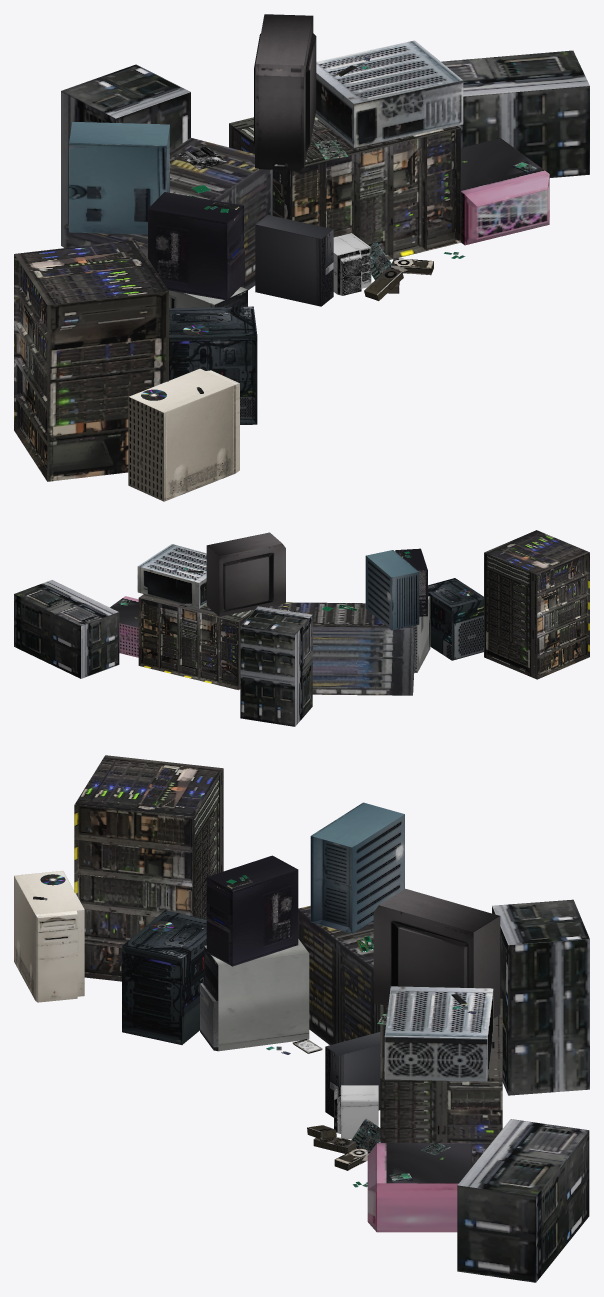
Rendered from pcs.fbx.
3 views of the same model, one above another, from view 1: azimuth 30°, elevation 25°; view 2: azimuth 150°, elevation 25°; view 3: azimuth 270°, elevation 25° (orthographic). The views are drawn at different scales.
Parts seen in each view (by area): view 1: Cube.034, Cube.032, Cube.031, Cube.011, Cube.028, Cube.027, Cube.001, Cube.024, Cube.026, Cube.035, Cube.030, Cube.029 (+5 smaller); view 2: Cube.034, Cube.030, Cube.035, Cube.031, Cube.032, Cube.001, Cube.029, Cube.027, Cube.028, Cube.026, Cube.010, Cube.024; view 3: Cube.034, Cube.031, Cube.035, Cube.001, Cube.027, Cube.028, Cube.010, Cube.029, Cube.032, Cube.024, Cube.026, Cube.011 (+3 smaller).
Part boxes in pixels (x1,y1,x2,y2): Cube.034: (14,240,168,481); Cube.032: (229,116,460,259); Cube.031: (441,50,589,177); Cube.011: (128,368,239,501); Cube.028: (315,40,463,147); Cube.027: (69,122,169,234); Cube.001: (254,14,316,170); Cube.024: (148,192,244,300); Cube.026: (461,138,549,245); Cube.035: (61,64,190,246); Cube.030: (63,138,272,290); Cube.029: (169,306,257,424); Cube.034: (484,530,589,679); Cube.030: (268,602,414,695); Cube.035: (240,606,312,726); Cube.031: (14,580,119,678); Cube.032: (138,594,268,690); Cube.001: (206,532,285,616); Cube.029: (428,578,483,660); Cube.027: (365,550,419,630); Cube.028: (137,544,206,608); Cube.026: (110,596,138,657); Cube.010: (414,596,430,672); Cube.024: (395,548,427,616); Cube.034: (74,755,223,981); Cube.031: (457,1119,589,1282); Cube.035: (492,899,589,1095); Cube.001: (373,888,500,1018); Cube.027: (310,802,404,933); Cube.028: (384,986,493,1081); Cube.010: (200,939,309,1051); Cube.029: (122,910,206,1044); Cube.032: (380,998,502,1166); Cube.024: (206,855,298,966); Cube.026: (367,1143,471,1232); Cube.011: (14,870,84,1002).
Size of the model in its own units: 2.61 by 0.73 by 1.79.
Materials: 2 (2 with a texture image).
